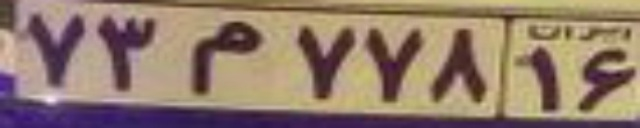1: (524, 45, 561, 110)
3: (96, 8, 156, 91)
6: (579, 46, 638, 110)
7: (25, 9, 88, 89), (292, 21, 356, 99), (365, 24, 421, 103)
8: (428, 24, 490, 104)
mim: (183, 20, 269, 95)
